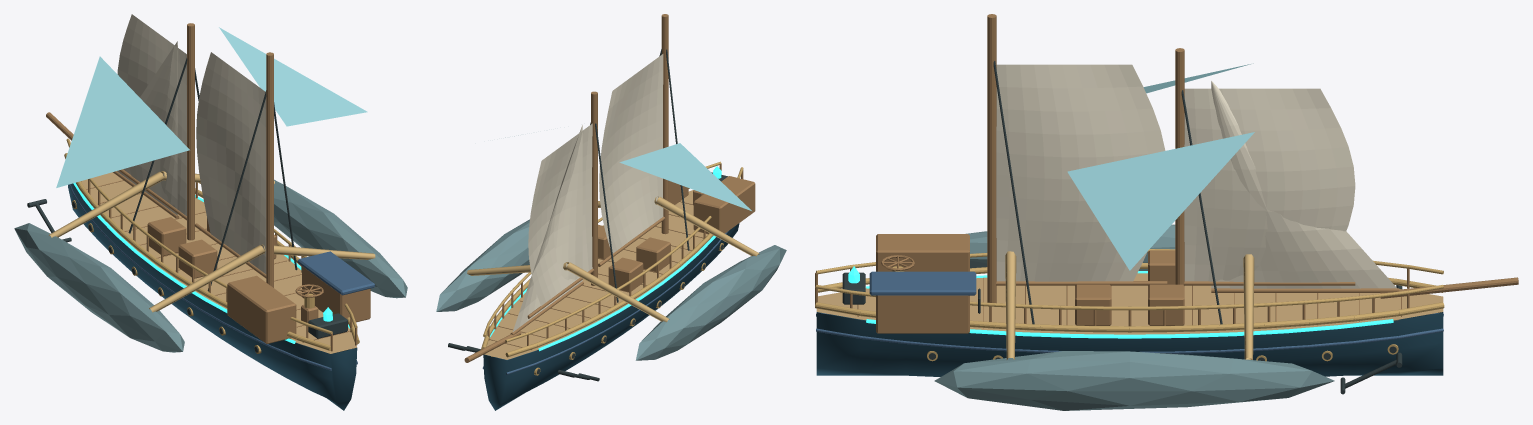
The model's file is premium_royal_schooner.glb.
The picture shows the model from 3 angles, left to right: view 1: azimuth 30°, elevation 25°; view 2: azimuth 150°, elevation 25°; view 3: azimuth 270°, elevation 25°; orthographic projection. The views are drawn at different scales.
Visible parts, largest first — view 1: premium_royal_schooner; view 2: premium_royal_schooner; view 3: premium_royal_schooner.
Boxes of the visible parts, bbox=[...] form: premium_royal_schooner: bbox=[14, 14, 407, 410]; premium_royal_schooner: bbox=[436, 14, 786, 410]; premium_royal_schooner: bbox=[815, 14, 1518, 410].
Size of the model in its own units: 8.2 by 7.6 by 13.47.
